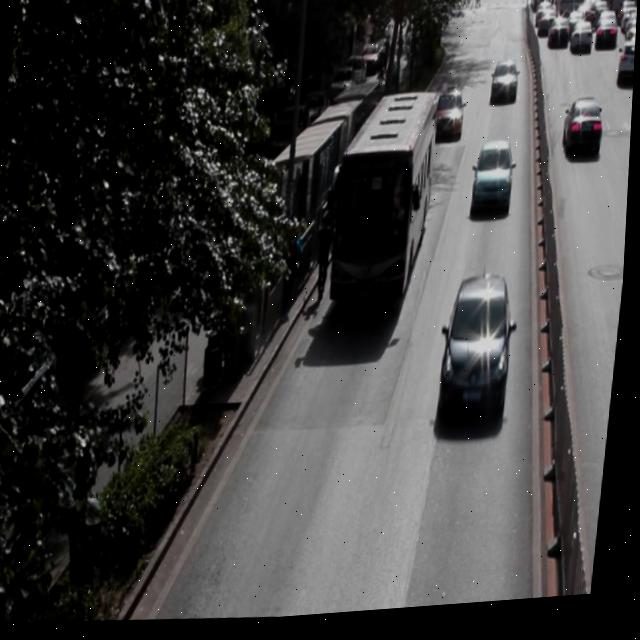car: (441, 277, 519, 429), (471, 145, 517, 218), (561, 103, 605, 171), (433, 95, 466, 146), (489, 64, 521, 111)
van: (327, 93, 440, 315)
